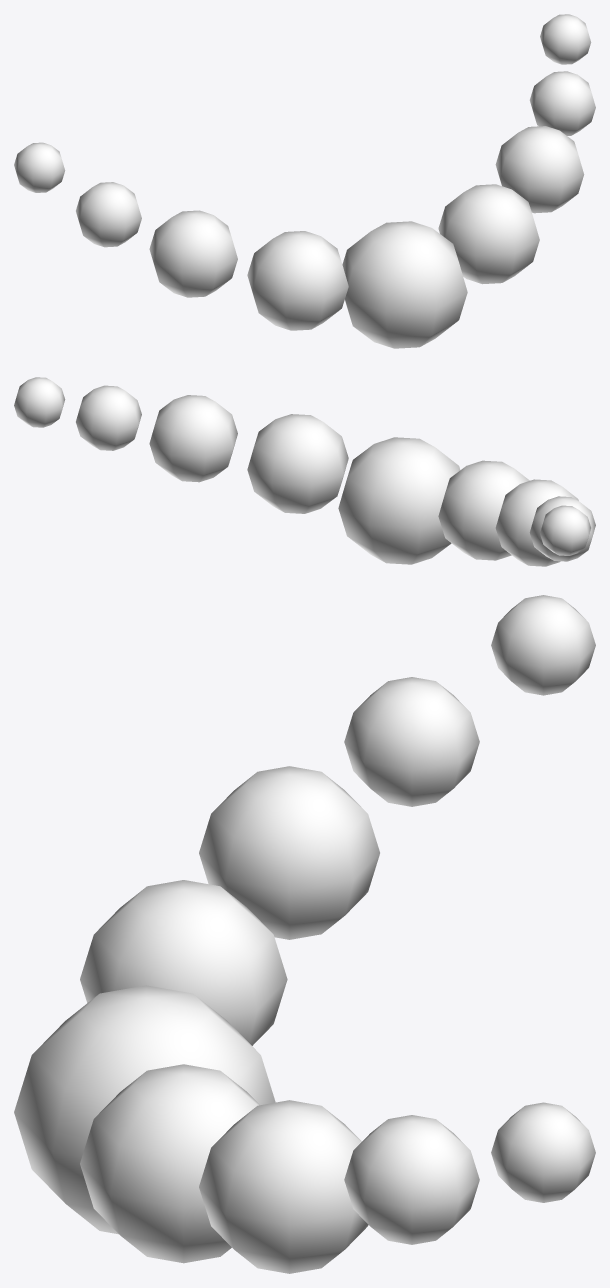
File: necklace2_1.fbx
3 renders of one model, top to bottom at view 1: azimuth 30°, elevation 25°; view 2: azimuth 150°, elevation 25°; view 3: azimuth 270°, elevation 25°, orthographic. The views are drawn at different scales.
Parts seen in each view (by area): view 1: necklace2_1; view 2: necklace2_1; view 3: necklace2_1.
Part boxes in pixels (x1,y1,x2,y2): necklace2_1: (14, 14, 595, 348); necklace2_1: (14, 377, 595, 566); necklace2_1: (14, 595, 595, 1273).
Bounding box in the file's own units: 51.41 × 16.19 × 22.91.
1 material, 1 textured.
